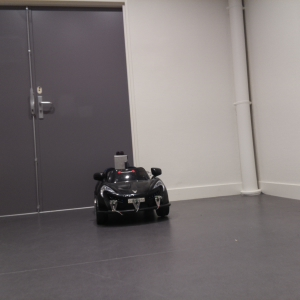big: (92, 165, 173, 225)
